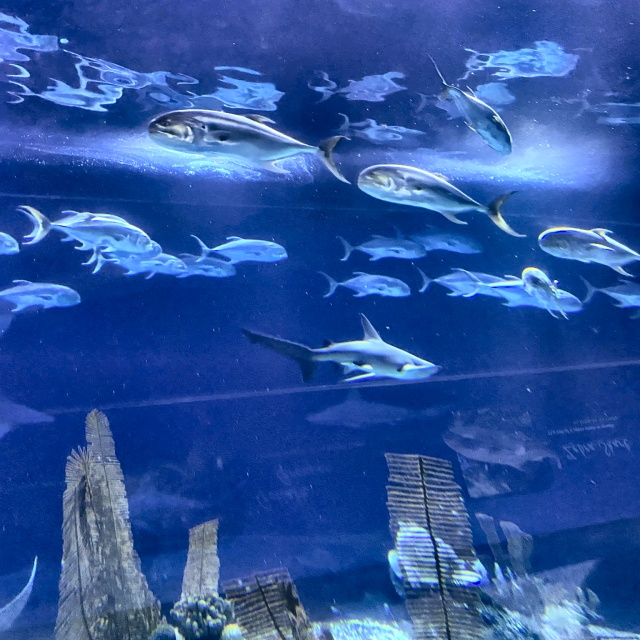fish: (147, 108, 351, 184), (358, 164, 516, 234), (427, 51, 513, 156), (18, 204, 153, 252), (539, 228, 639, 276), (191, 234, 288, 262), (0, 279, 81, 312), (83, 252, 185, 278), (420, 270, 514, 297), (338, 235, 428, 262), (321, 272, 410, 299), (524, 267, 568, 319), (500, 284, 583, 311), (85, 239, 162, 264), (580, 276, 639, 308), (161, 252, 236, 276), (0, 231, 20, 255)
shark: (239, 315, 440, 383), (308, 386, 449, 428)
